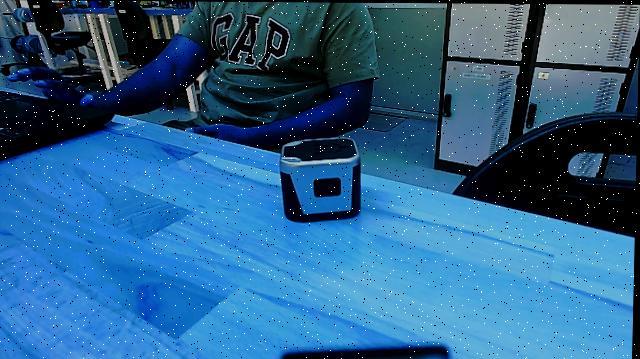adapter: (277, 135, 367, 225)
